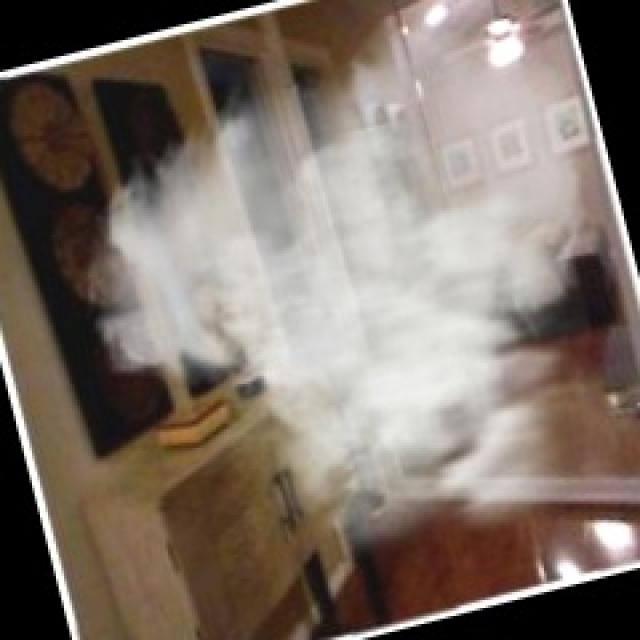smoke: (184, 45, 627, 480)
